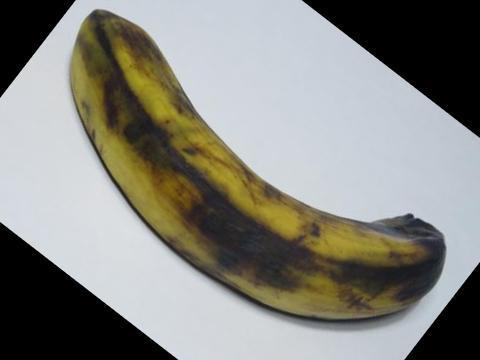overripe: (61, 3, 471, 335)
